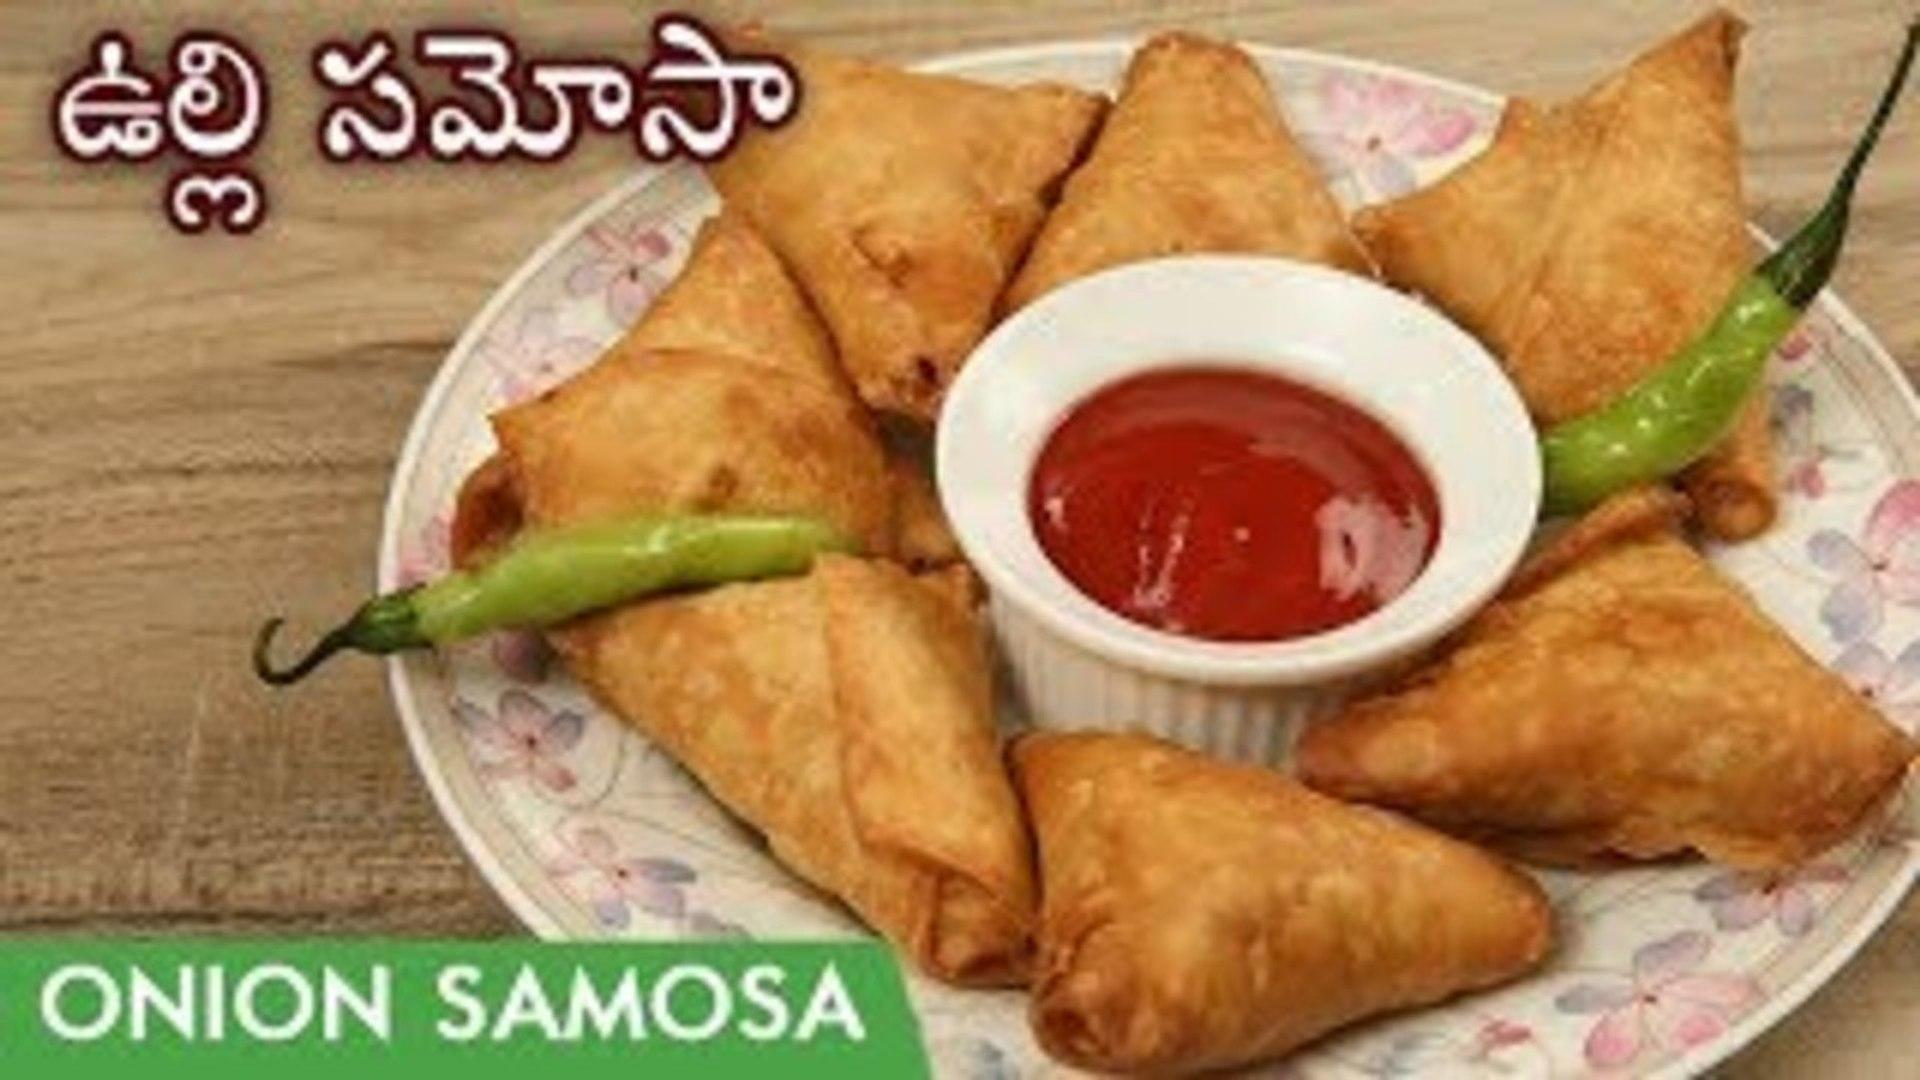samosa: (1298, 529, 1912, 870), (555, 555, 1035, 986), (1009, 732, 1552, 1076), (1354, 12, 1747, 417), (716, 53, 1106, 423), (495, 214, 893, 555), (1001, 34, 1377, 311), (832, 124, 840, 132), (1039, 183, 1046, 193), (897, 177, 899, 182)
